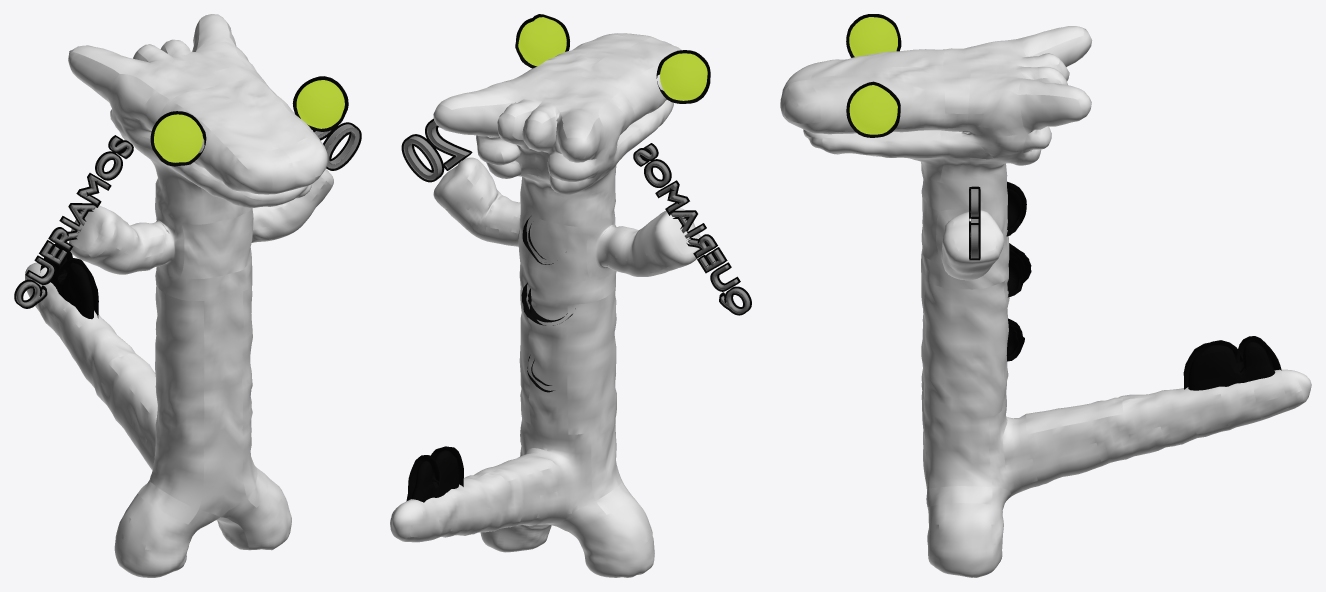
File: Easter.fbx
The picture shows the model from 3 angles, left to right: view 1: azimuth 30°, elevation 25°; view 2: azimuth 150°, elevation 25°; view 3: azimuth 270°, elevation 25°; orthographic projection.
Parts seen in each view (by area): view 1: Cube.001; view 2: Cube.001; view 3: Cube.001.
Part boxes in pixels (box(x1,y1,x2,y2)): Cube.001: box(14, 14, 361, 577); Cube.001: box(390, 14, 751, 577); Cube.001: box(780, 14, 1311, 577).
Size of the model in its own units: 183 by 249 by 244.
